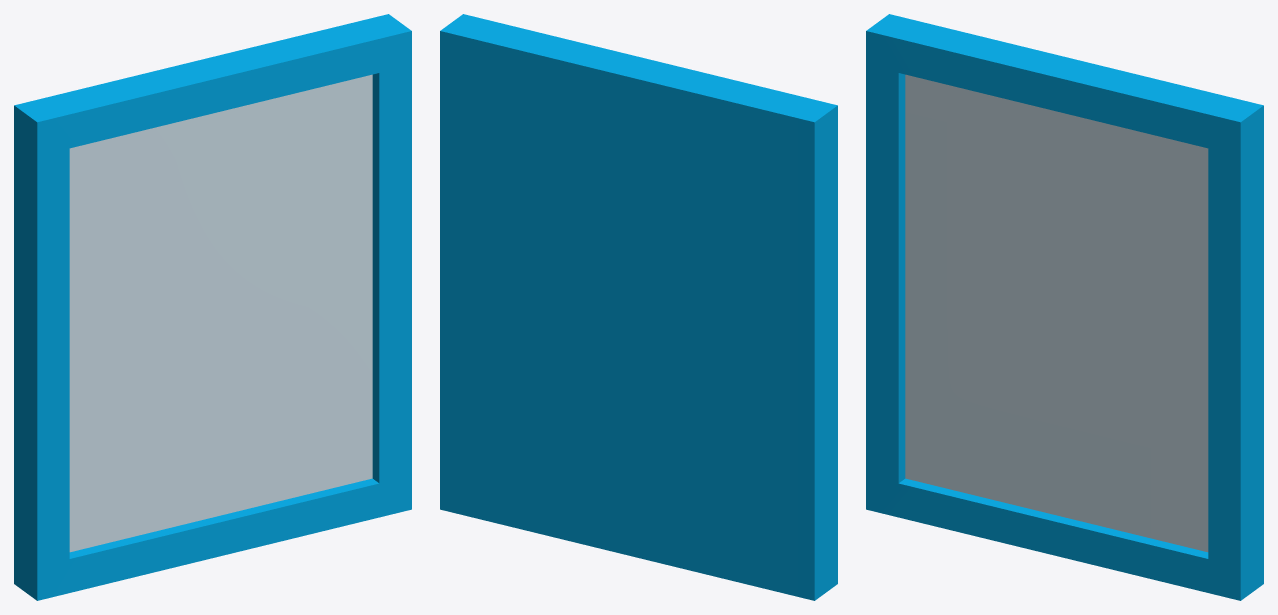
Rendered from picture_033.glb.
The picture shows the model from 3 angles, left to right: view 1: azimuth 30°, elevation 25°; view 2: azimuth 150°, elevation 25°; view 3: azimuth 330°, elevation 25°; orthographic projection.
Visible parts, largest first — view 1: picture_033; view 2: picture_033; view 3: picture_033.
Part boxes in pixels (x1,y1,x2,y2): picture_033: (14, 14, 411, 600); picture_033: (440, 14, 837, 600); picture_033: (866, 14, 1263, 600).
Bounding box in the file's own units: 0.3904 × 0.4768 × 0.0418.
Materials: 1 (1 with a texture image).
